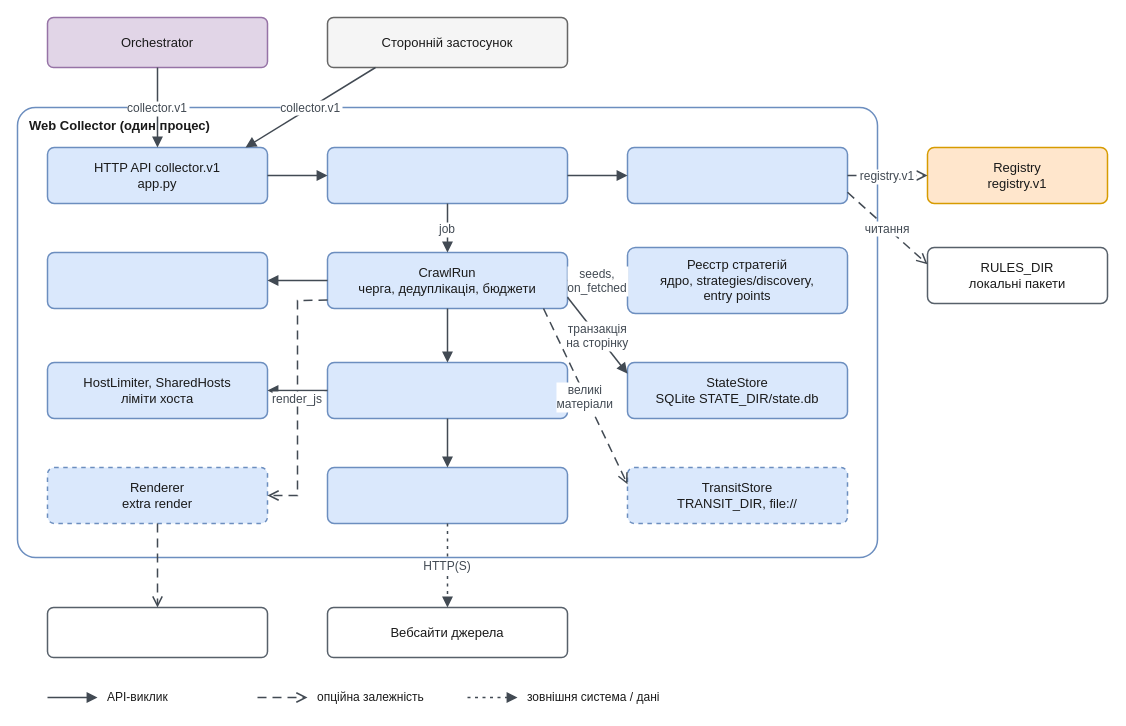
Image size: 1126x726. Some labels were removed from this diagram. Each missing label, with the box of its shape:
Engine збори, fetch, resume, GC: (326, 146, 568, 204)
Fetcher повтори, переадресації: (326, 361, 568, 419)
Headless Chromium: (46, 606, 268, 658)
RobotsCache robots.txt: (46, 251, 268, 309)
RulesLoader правила за rules_ref: (626, 146, 848, 204)
Політика вихідних адрес egress.py: (326, 466, 568, 524)
